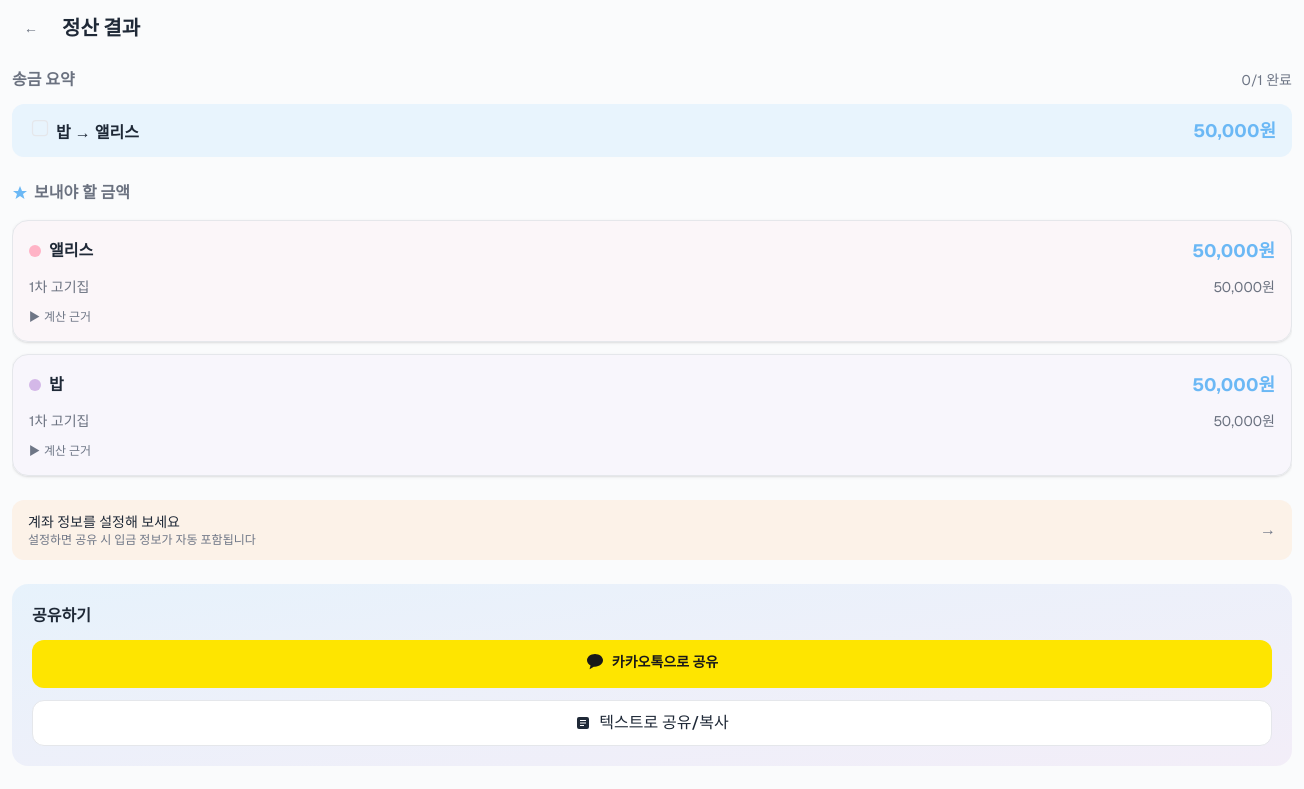
Test case: SettlementPage - 송금 요약 › 완료 토글 후 다시 클릭 시 미완료
The image size is (1304, 789).
Step 1. Click the button with aria-label "송금 완료 표시" → (117, 132), box [12,104,1292,157]
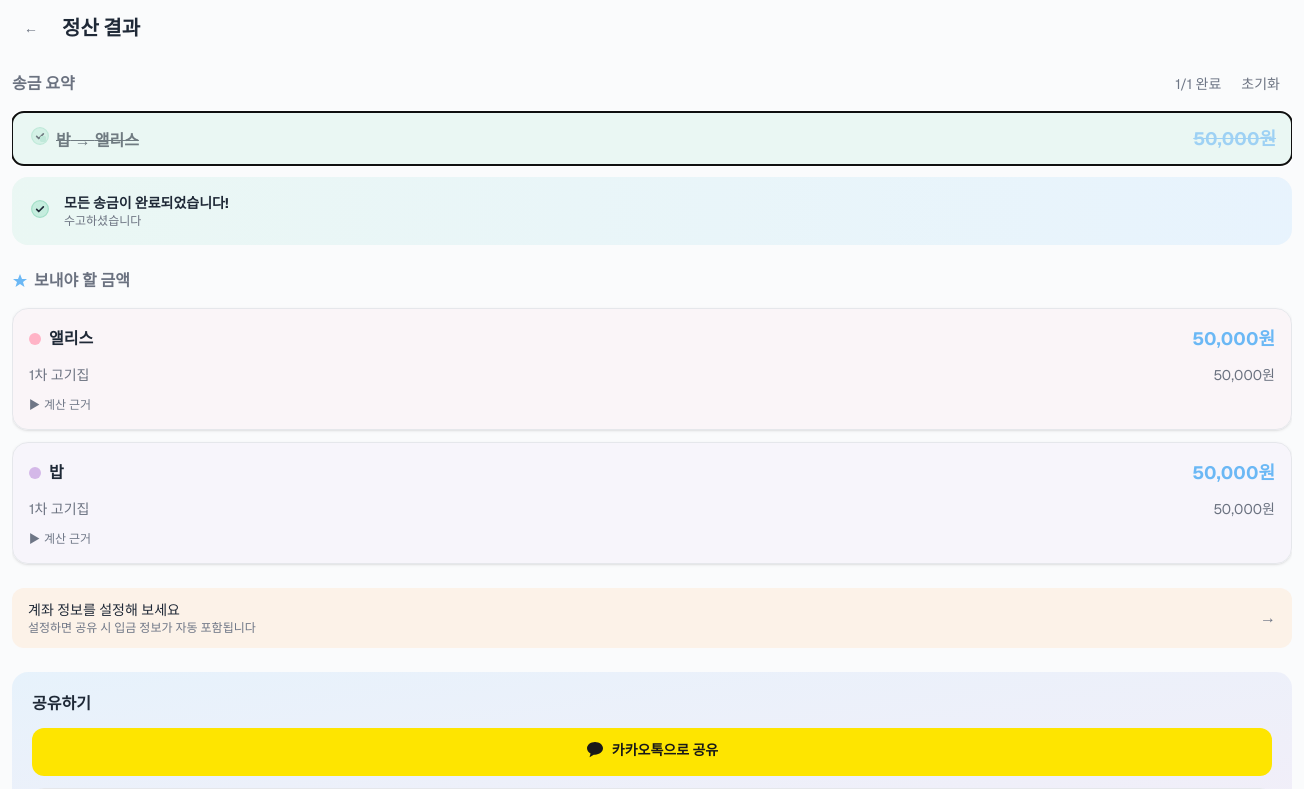
Step 2. Click the button with aria-label "송금 완료 해제" → (117, 140), box [12,112,1292,165]
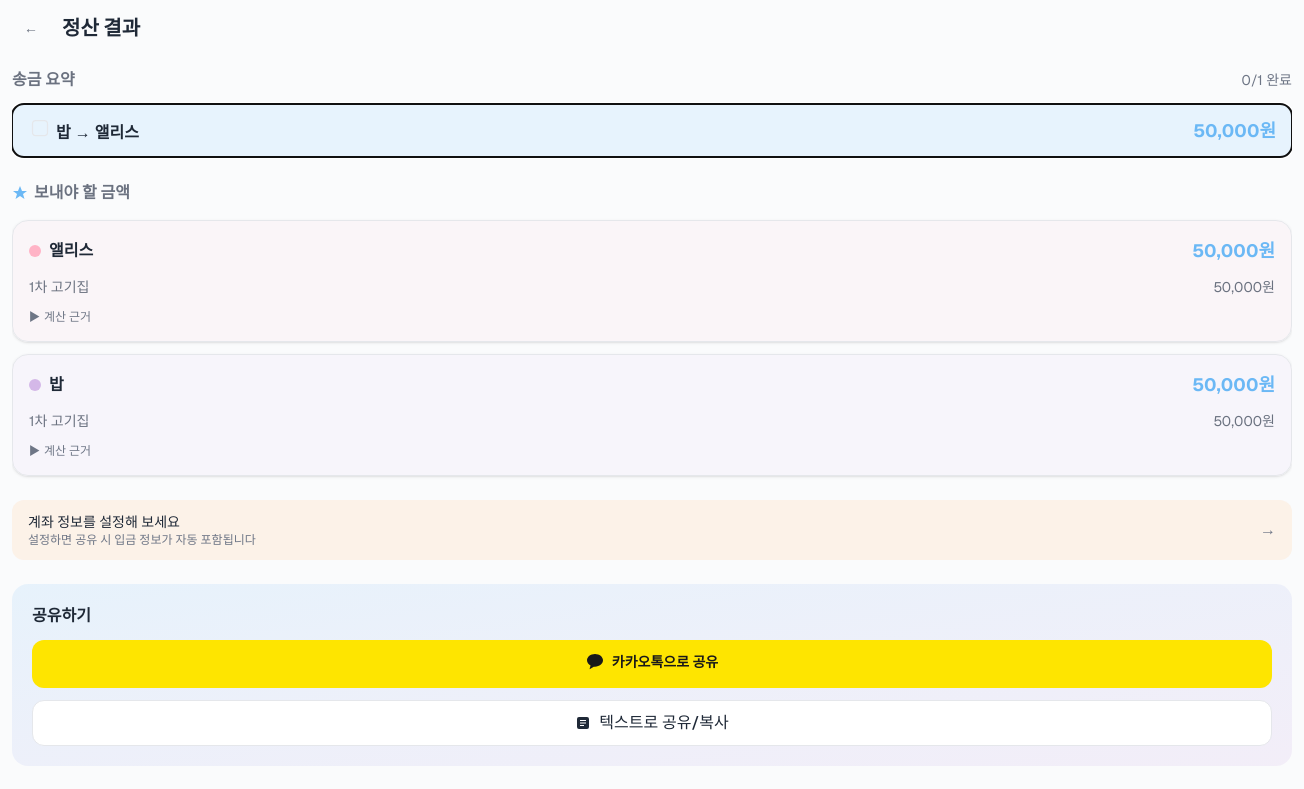
Expected: the text "0/1 완료" is shown, [1242,70,1292,90]
